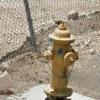Hydrant: (35, 15, 82, 100)
